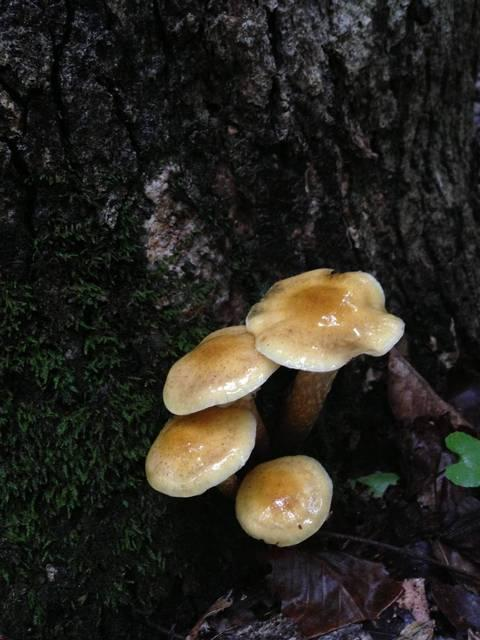Edible Mushroom: (244, 266, 405, 447), (161, 323, 280, 416), (144, 405, 257, 498), (234, 453, 333, 547)
